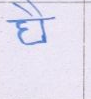o_matra: (37, 7, 48, 43)
